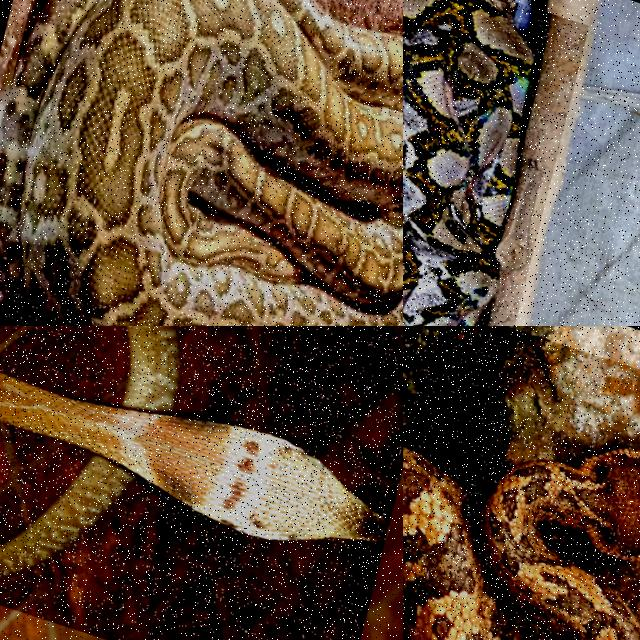Malayopython reticulatus: (403, 0, 530, 325)
Naja kaouthia: (0, 326, 388, 584)
Ovophis monticola: (403, 448, 639, 639)
Python bivittatus: (0, 0, 402, 325)
snake: (0, 0, 402, 325), (0, 326, 388, 584), (403, 448, 639, 639), (403, 0, 530, 325)
